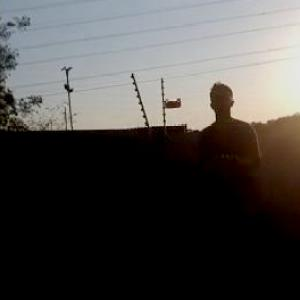follow: (195, 69, 270, 299)
